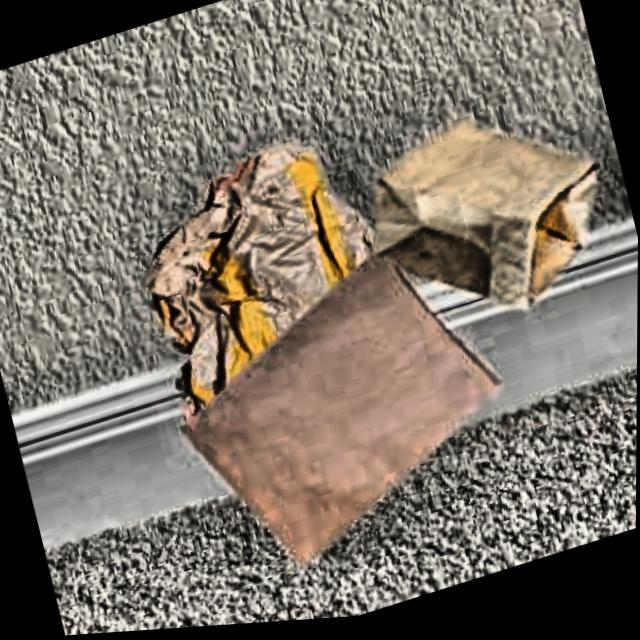Paper-bag: (158, 229, 531, 606), (117, 125, 425, 454), (347, 69, 631, 362)
